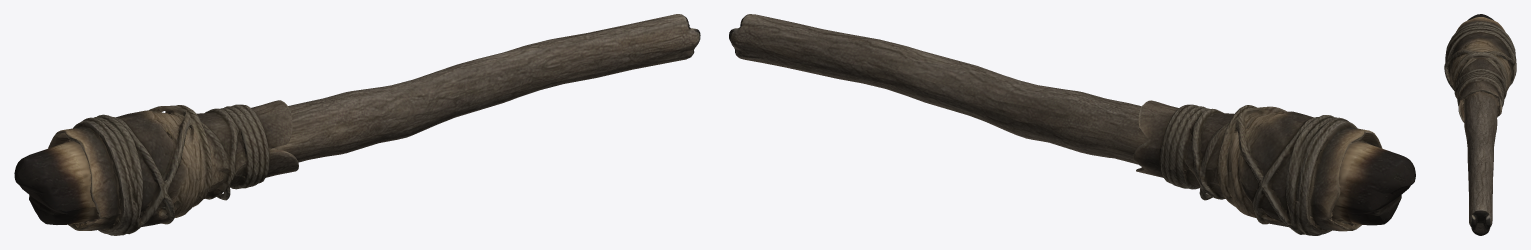
File: Torch.glb
The picture shows the model from 3 angles, left to right: view 1: azimuth 30°, elevation 25°; view 2: azimuth 150°, elevation 25°; view 3: azimuth 270°, elevation 25°; orthographic projection. The views are drawn at different scales.
Bounding box in the file's own units: 1.9 × 0.2954 × 0.2994.
Materials: 1 (1 with a texture image).
